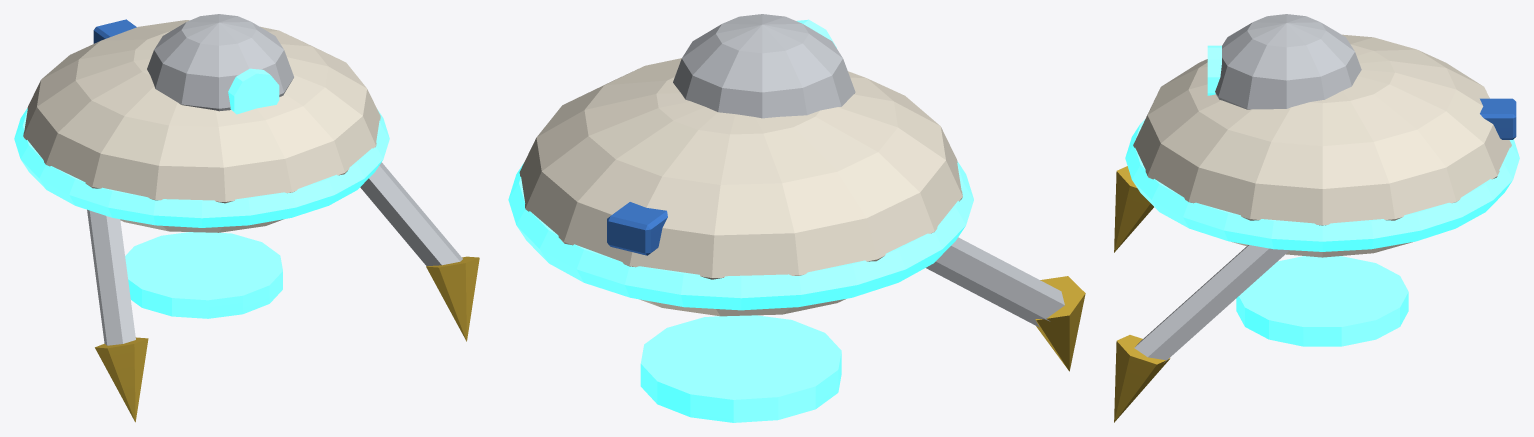
File: moissonneur.glb
The picture shows the model from 3 angles, left to right: view 1: azimuth 30°, elevation 25°; view 2: azimuth 150°, elevation 25°; view 3: azimuth 270°, elevation 25°; orthographic projection. The views are drawn at different scales.
Visible parts, largest first — view 1: moissonneur; view 2: moissonneur; view 3: moissonneur.
Part boxes in pixels (x1,y1,x2,y2): moissonneur: [14, 14, 479, 422]; moissonneur: [508, 14, 1085, 422]; moissonneur: [1114, 14, 1519, 422].
Size of the model in its own units: 0.6293 by 0.4844 by 0.5655.
